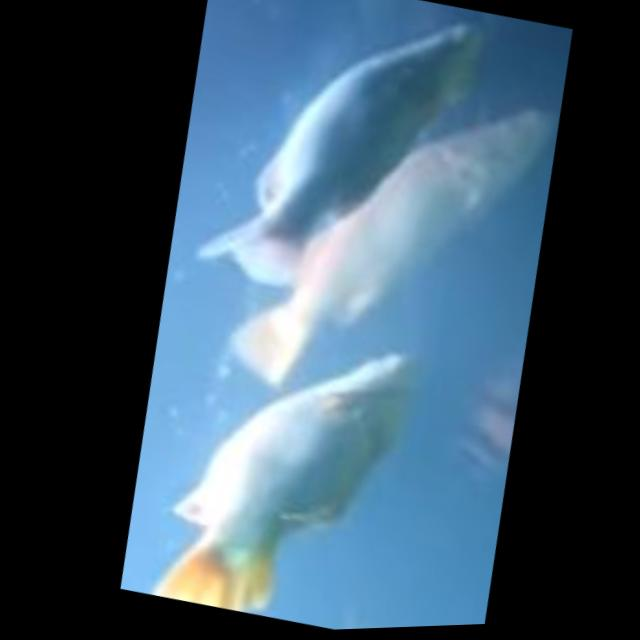Seabass: (194, 46, 587, 442), (168, 0, 506, 323), (126, 303, 430, 636)
